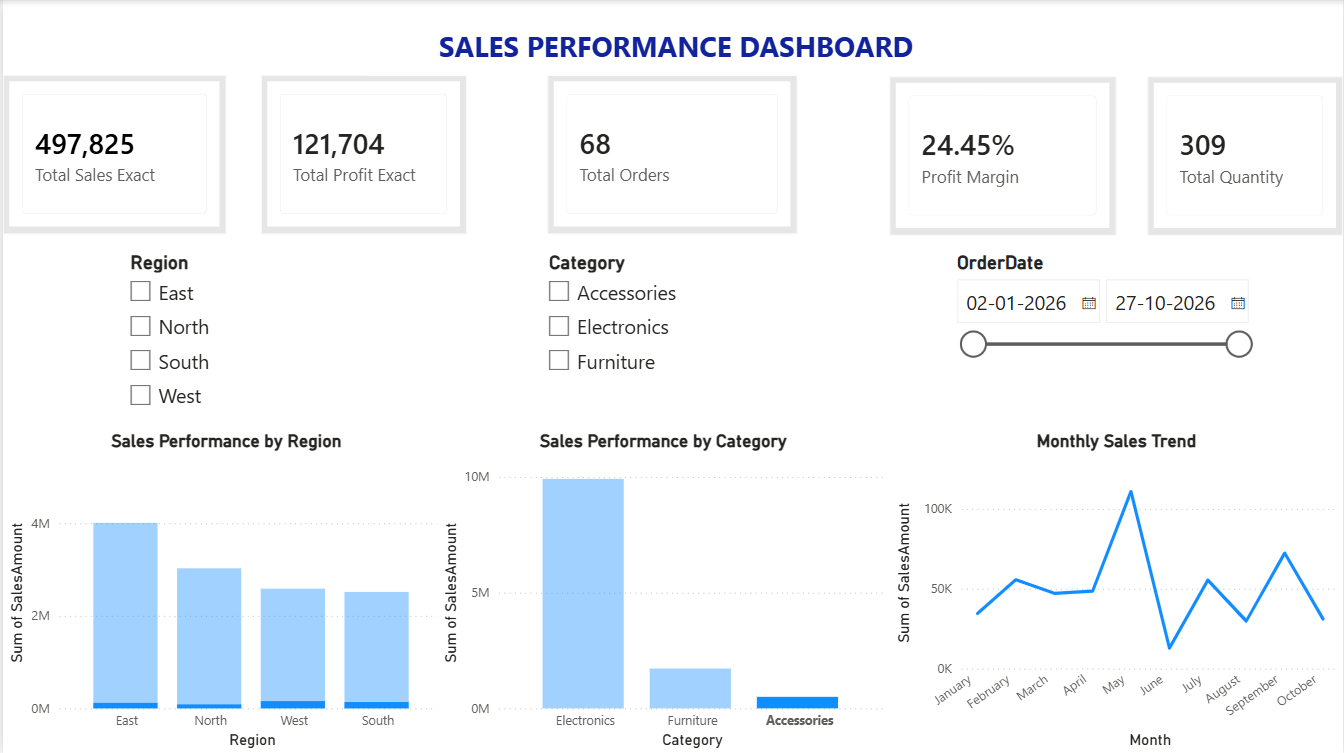

This screenshot's page, from the dashboard's own definition file:
{"tool":"powerbi","page":{"name":"Page 1","canvas":[1280,720],"ordinal":0},"visuals":[{"type":"cardVisual","fields":{"Data":["Cleaned_Data.Total Sales Exact"]},"box":[0,71.7,213.3,151.7],"z":0},{"type":"cardVisual","fields":{"Data":["Cleaned_Data.Profit Margin"]},"box":[846.7,73.3,216.7,151.7],"z":1000},{"type":"cardVisual","fields":{"Data":["Cleaned_Data.Total Profit Exact"]},"box":[246.7,71.7,196.7,151.7],"z":2000},{"type":"cardVisual","fields":{"Data":["Cleaned_Data.Total Quantity"]},"box":[1093.3,73.3,186.7,151.7],"z":3000},{"type":"clusteredColumnChart","title":"Sales Performance by Region","fields":{"Category":["Cleaned_Data.Region"],"Y":["Sum(Cleaned_Data.SalesAmount)"]},"box":[0,411.7,426.7,308.3],"z":4000},{"type":"clusteredColumnChart","title":"Sales Performance by Category","fields":{"Category":["Cleaned_Data.Category"],"Y":["Sum(Cleaned_Data.SalesAmount)"]},"box":[413.3,411.7,433.3,308.3],"z":5000},{"type":"lineChart","title":"Monthly Sales Trend","fields":{"Y":["Sum(Cleaned_Data.SalesAmount)"],"Category":["Cleaned_Data.OrderDate.Variation.Date Hierarchy.Month"]},"box":[846.7,411.7,433.3,308.3],"z":6000},{"type":"cardVisual","fields":{"Data":["Cleaned_Data.Total Orders"]},"box":[520,71.7,238.3,151.7],"z":7000},{"type":"slicer","fields":{"Values":["Cleaned_Data.Region"]},"box":[108.3,235,208.3,176.7],"z":8000},{"type":"slicer","fields":{"Values":["Cleaned_Data.Category"]},"box":[508.3,235,250,160],"z":9000},{"type":"slicer","fields":{"Values":["Cleaned_Data.OrderDate"]},"box":[898.3,235,303.3,160],"z":10000},{"type":"textbox","box":[345,20,595,51.7],"z":10005}]}

Visuals, with their boxes in screenshot pixels (x1, y1, x2, y2), scaled from the page's 1280x720 canvas onto the 1344x753 screenshot:
cardVisual - Cleaned_Data.Total Sales Exact: [0, 75, 224, 234]
cardVisual - Cleaned_Data.Profit Margin: [889, 77, 1117, 235]
cardVisual - Cleaned_Data.Total Profit Exact: [259, 75, 466, 234]
cardVisual - Cleaned_Data.Total Quantity: [1148, 77, 1343, 235]
"Sales Performance by Region" clusteredColumnChart: [0, 431, 448, 752]
"Sales Performance by Category" clusteredColumnChart: [434, 431, 889, 752]
"Monthly Sales Trend" lineChart: [889, 431, 1343, 752]
cardVisual - Cleaned_Data.Total Orders: [546, 75, 796, 234]
slicer - Cleaned_Data.Region: [114, 246, 332, 431]
slicer - Cleaned_Data.Category: [534, 246, 796, 413]
slicer - Cleaned_Data.OrderDate: [943, 246, 1262, 413]
textbox: [362, 21, 987, 75]
